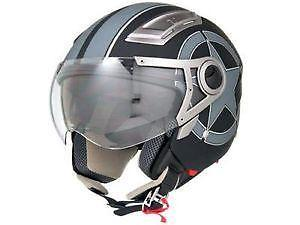with_helmet: (49, 1, 246, 199)
